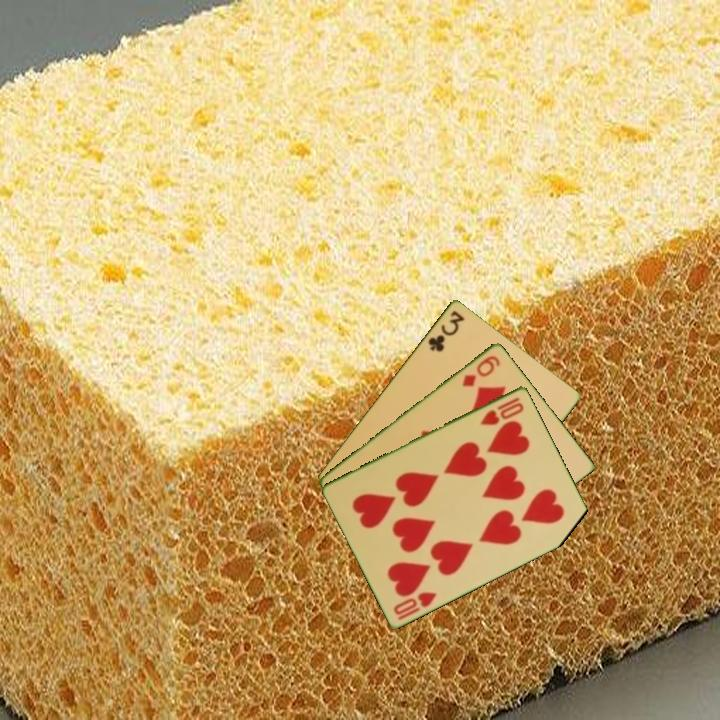10h: (477, 393, 527, 428), (390, 588, 440, 623)
3c: (424, 307, 467, 354)
6d: (458, 351, 503, 389)
